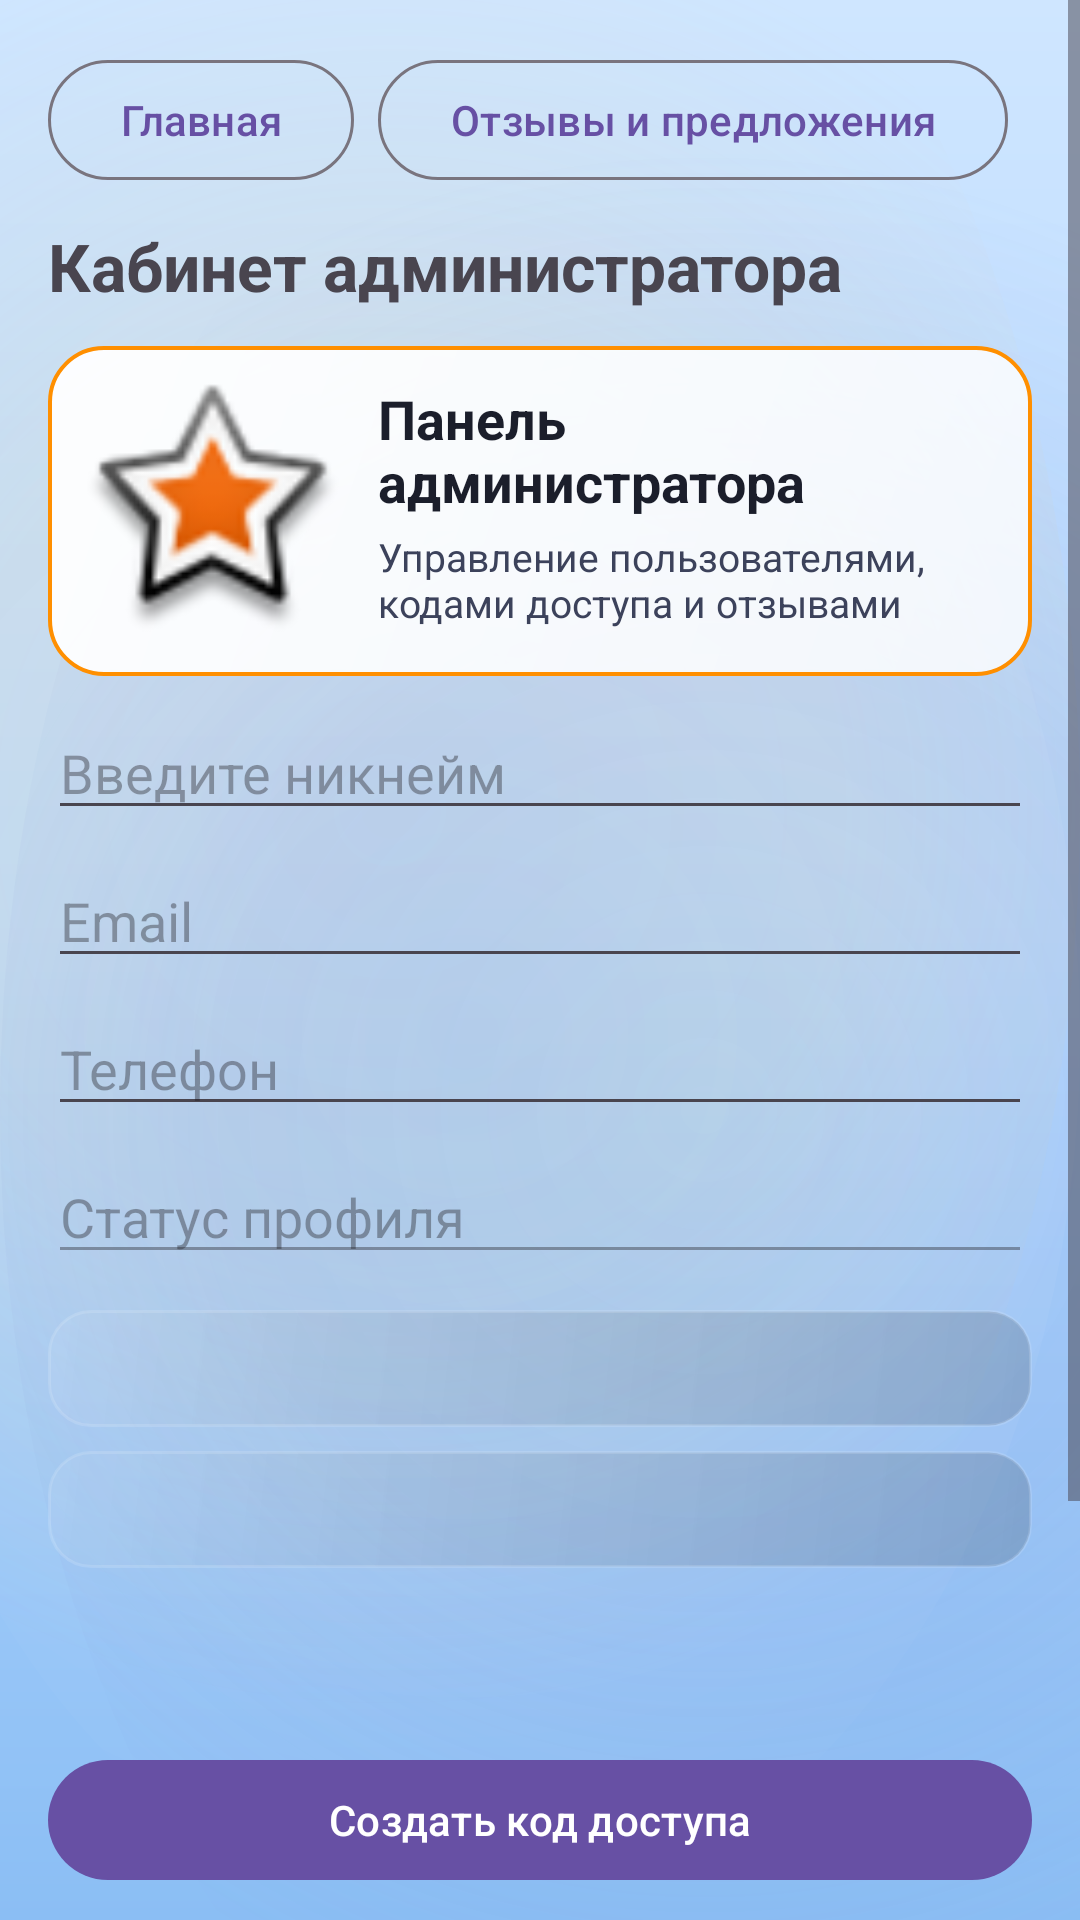

Icons on this 1080w x 1920h Android screen, each with the point to tap as [x,y]:
star on: [212,502]
